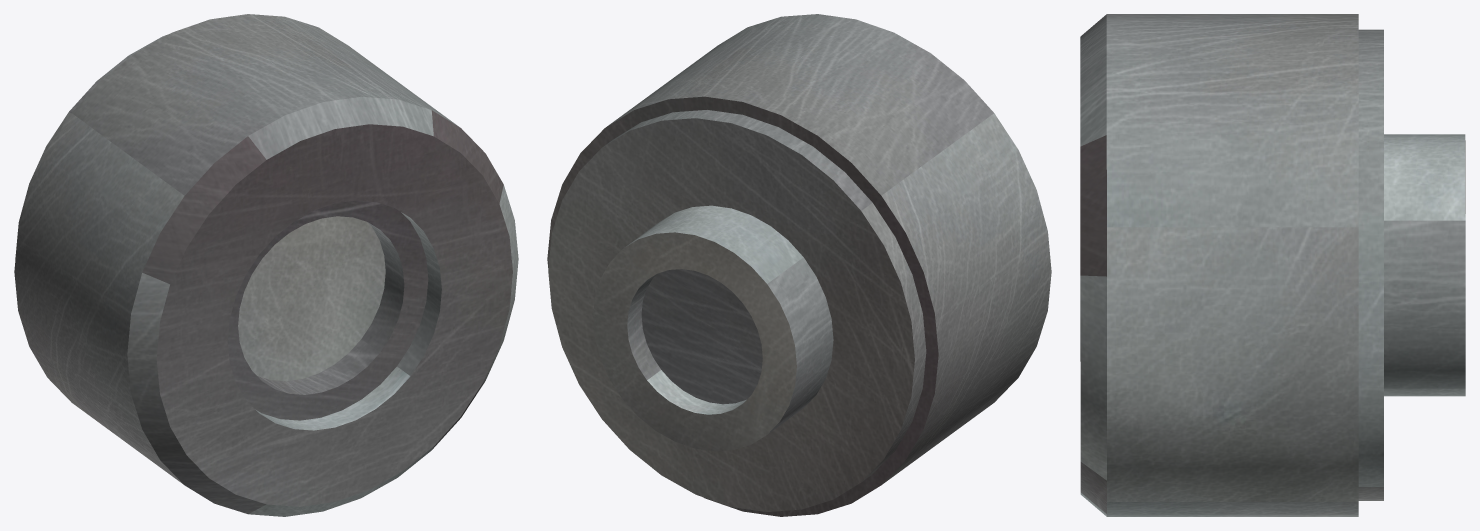
The model's file is gasmaskfilter.fbx.
3 renders of one model, left to right at view 1: azimuth 30°, elevation 25°; view 2: azimuth 150°, elevation 25°; view 3: azimuth 270°, elevation 25°, orthographic. The views are drawn at different scales.
Parts seen in each view (by area): view 1: Cylinder; view 2: Cylinder; view 3: Cylinder.
Part boxes in pixels (x1,y1,x2,y2): Cylinder: (14, 14, 518, 516); Cylinder: (547, 14, 1051, 516); Cylinder: (1080, 14, 1465, 516).
Size of the model in its own units: 0.1471 by 0.1471 by 0.1125.
